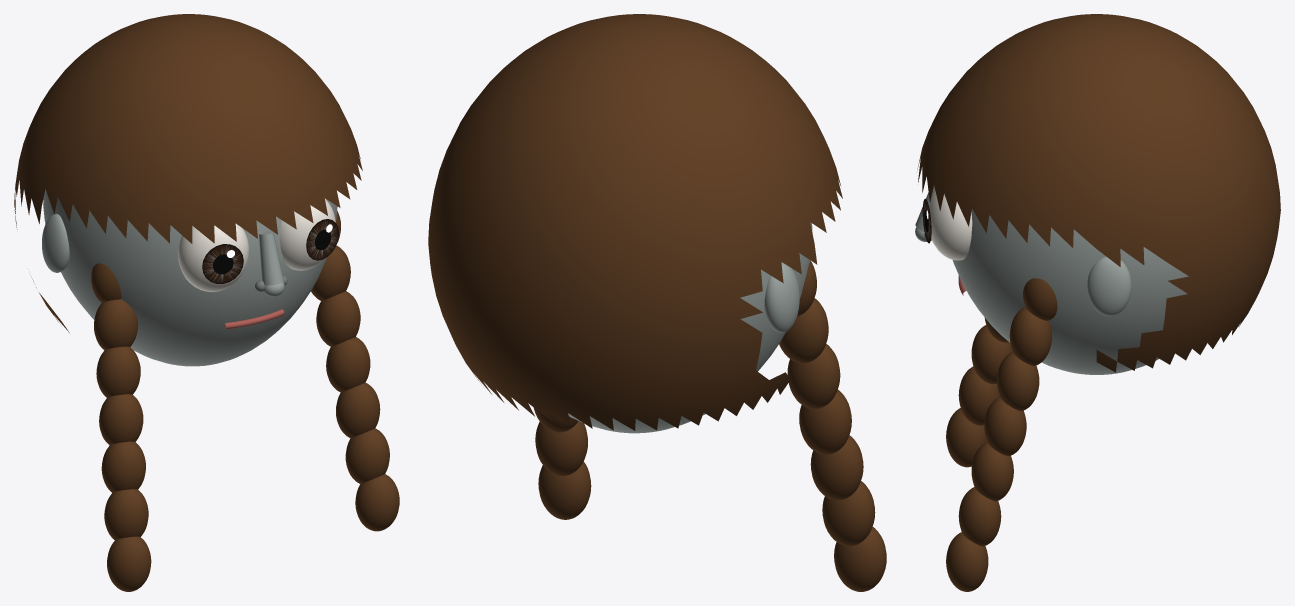
Rendered from autres-06-tresses.glb.
The picture shows the model from 3 angles, left to right: view 1: azimuth 30°, elevation 25°; view 2: azimuth 150°, elevation 25°; view 3: azimuth 270°, elevation 25°; orthographic projection. The views are drawn at different scales.
Size of what is drawn, in the model's own units: 0.3363 by 0.5185 by 0.3446.
Materials: 10 (1 with a texture image).
